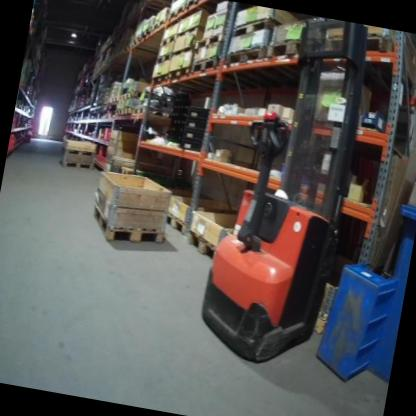pallet: (311, 24, 401, 85), (86, 199, 169, 253), (254, 30, 321, 78), (226, 13, 275, 51), (223, 36, 270, 74), (185, 224, 221, 260), (188, 49, 222, 81), (192, 26, 225, 55), (161, 206, 191, 236), (55, 141, 95, 161), (167, 60, 195, 86), (53, 156, 93, 174), (176, 22, 202, 44), (167, 3, 188, 25), (154, 46, 175, 66), (182, 0, 210, 15), (159, 30, 179, 50), (151, 67, 169, 87), (151, 15, 166, 32), (124, 89, 139, 100), (123, 105, 134, 115), (114, 108, 124, 117)
pallet_truck: (190, 7, 374, 377)
small_load_carrier: (186, 104, 211, 121), (179, 137, 204, 152), (183, 117, 208, 131), (181, 127, 206, 141)
